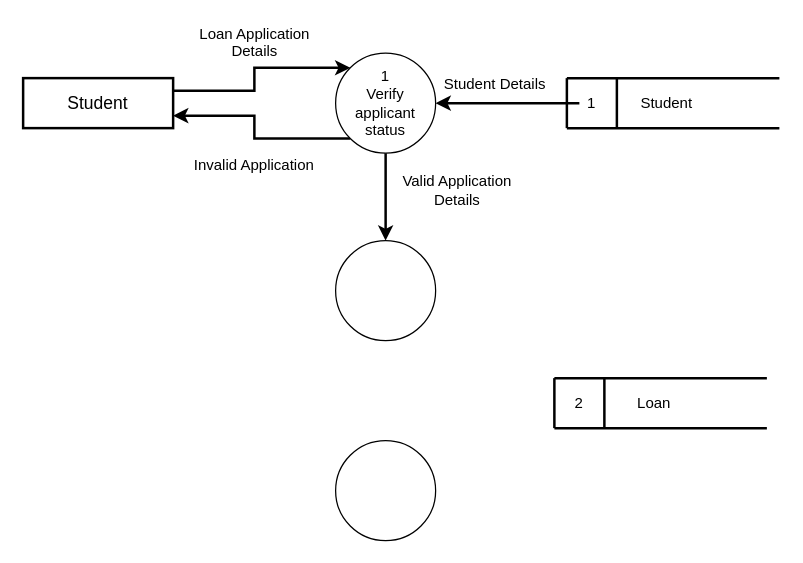
The diagram is 803 pixels wide and 563 high, and some of its shapes have lost their labels. The shapes that lost their labels are listed below. From the top down, each one's centre as x and y in pixels, then its label:
At [385,290]: "2 Process Loan Application".
At [385,490]: "Generate emails".
